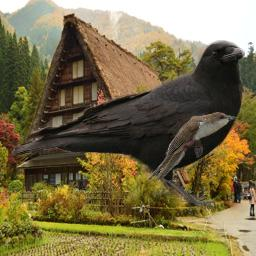Crow: (11, 40, 245, 209)
Cuckoo: (148, 112, 238, 180)
